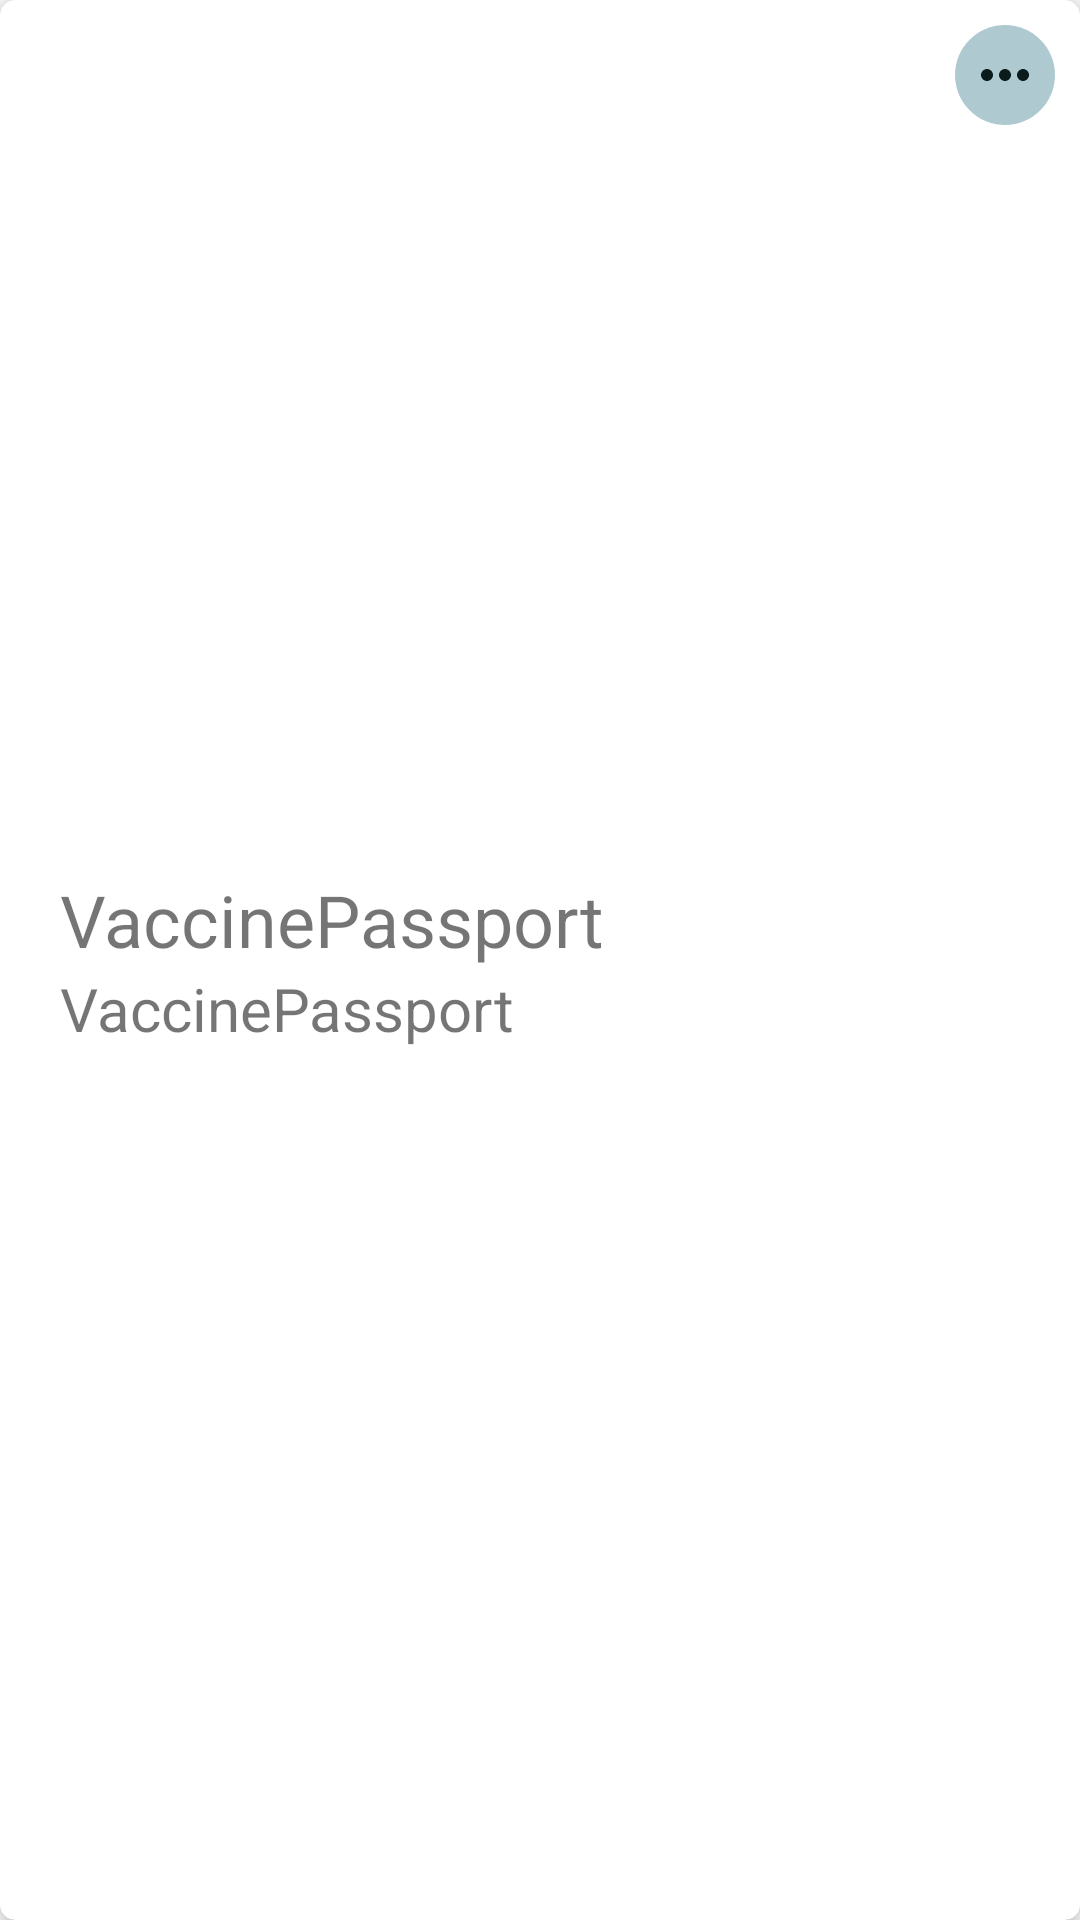

Where to tap for icons on this 1080 x 1920 app screen, as point (x, y):
three dot: point (1005, 75)
